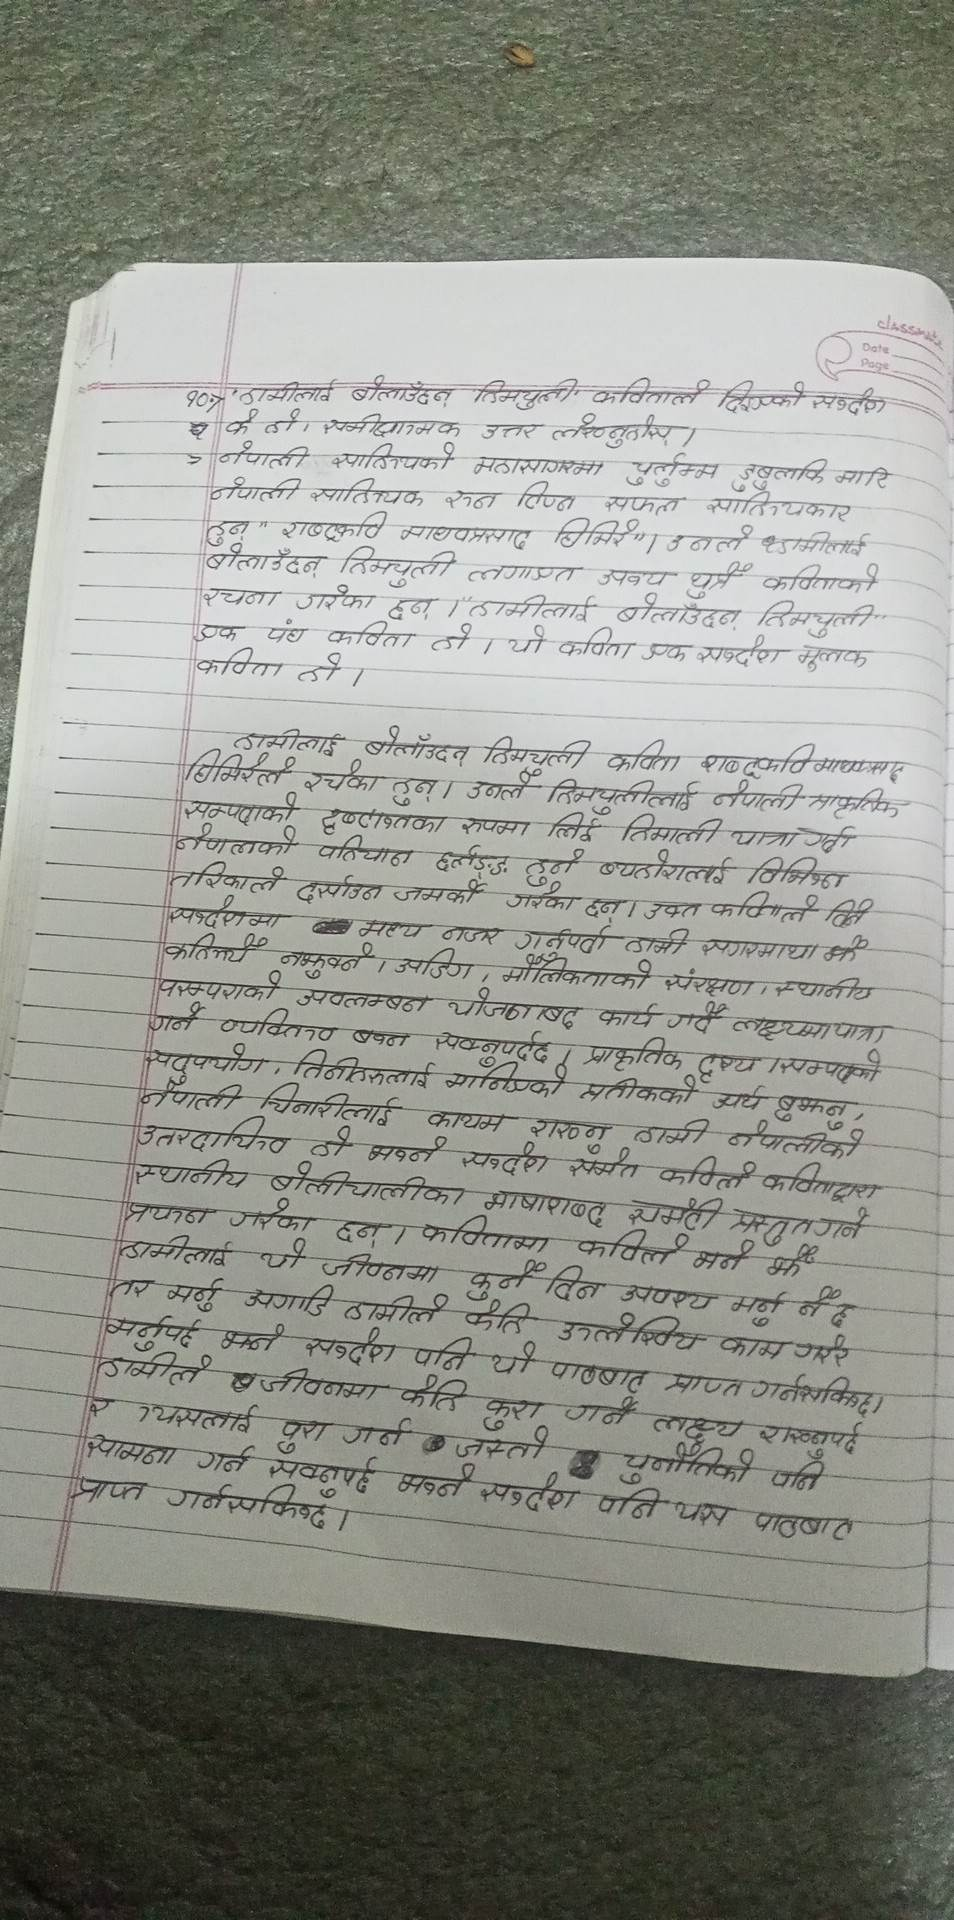text: (164, 1480, 329, 1539), (269, 1161, 464, 1209), (696, 927, 869, 969), (137, 1111, 294, 1156), (426, 1016, 556, 1069), (445, 983, 585, 1031), (289, 1043, 434, 1089), (594, 845, 734, 891), (254, 1084, 397, 1128), (618, 1441, 753, 1488), (560, 1313, 704, 1356), (418, 1213, 554, 1259), (752, 1367, 877, 1416), (702, 487, 857, 527), (729, 1008, 892, 1044), (118, 1229, 236, 1280), (545, 776, 696, 816), (480, 1464, 584, 1520), (501, 955, 654, 992), (724, 1120, 862, 1161), (754, 596, 881, 640), (269, 1451, 382, 1500), (614, 591, 741, 633), (761, 1160, 884, 1202), (438, 1060, 569, 1101), (484, 1185, 610, 1227), (770, 1043, 884, 1089), (142, 1040, 266, 1081), (296, 983, 436, 1020), (550, 411, 680, 451), (761, 1416, 872, 1461), (321, 407, 465, 441), (574, 1073, 697, 1113), (329, 1247, 445, 1289), (361, 725, 473, 769), (577, 1227, 688, 1271), (258, 1364, 380, 1404), (333, 547, 458, 587), (167, 857, 289, 896), (137, 1400, 260, 1439), (746, 1505, 854, 1549), (300, 1322, 404, 1368), (217, 1005, 337, 1044), (336, 1289, 454, 1329), (582, 1033, 685, 1078), (102, 1311, 205, 1356), (484, 731, 592, 773), (394, 520, 533, 552), (700, 740, 816, 778), (329, 440, 460, 473), (762, 560, 876, 598), (184, 752, 294, 791), (176, 824, 298, 860), (467, 591, 596, 624), (230, 722, 347, 759), (158, 969, 282, 1003), (656, 1153, 758, 1195), (705, 888, 821, 924), (165, 898, 284, 933), (133, 1160, 252, 1195), (470, 451, 614, 480), (130, 1079, 244, 1116), (452, 1425, 552, 1467), (513, 921, 620, 960), (314, 831, 416, 872), (321, 803, 446, 836), (205, 545, 325, 579), (626, 1191, 727, 1232), (242, 1275, 333, 1320), (590, 376, 714, 409), (182, 791, 298, 827), (276, 507, 393, 541), (81, 1429, 184, 1468), (545, 1357, 650, 1395), (274, 940, 376, 980), (614, 1280, 720, 1316), (523, 1114, 618, 1155), (661, 1363, 748, 1407), (748, 855, 852, 891), (776, 972, 881, 1009), (620, 813, 726, 849), (394, 1460, 478, 1505), (400, 1371, 473, 1423), (104, 1353, 212, 1387), (653, 1407, 749, 1445), (393, 940, 476, 984), (193, 645, 287, 684), (709, 779, 808, 816), (312, 478, 426, 509), (727, 457, 829, 492), (160, 936, 269, 969), (732, 1205, 818, 1247), (546, 512, 634, 552), (228, 1195, 316, 1236), (465, 1258, 544, 1303), (812, 749, 905, 787), (344, 377, 458, 408), (291, 873, 389, 909), (69, 1471, 153, 1511), (474, 380, 580, 411), (326, 617, 420, 653), (698, 631, 786, 669), (457, 1149, 554, 1183), (561, 1392, 645, 1431), (206, 471, 305, 504), (365, 1131, 453, 1168), (459, 1299, 533, 1343), (606, 737, 686, 778), (772, 1092, 854, 1131), (114, 1199, 214, 1231), (432, 842, 516, 880), (420, 1100, 506, 1136), (670, 1491, 740, 1536), (294, 580, 380, 616), (218, 440, 312, 471), (666, 523, 757, 556), (546, 1261, 610, 1308), (413, 1333, 478, 1379), (467, 560, 580, 585), (781, 525, 873, 557), (789, 1329, 861, 1369), (721, 380, 809, 413), (622, 459, 721, 489), (626, 1116, 713, 1149), (794, 640, 874, 676), (518, 847, 589, 888), (813, 785, 896, 819), (540, 809, 612, 849), (557, 628, 637, 664), (238, 377, 337, 405), (393, 880, 492, 909), (665, 969, 756, 999), (618, 924, 693, 961), (686, 557, 749, 600), (483, 1389, 546, 1431), (596, 1487, 670, 1523), (218, 1320, 294, 1356), (462, 768, 534, 804), (562, 1155, 645, 1187), (813, 1204, 881, 1243), (814, 387, 894, 420), (201, 580, 280, 613), (497, 887, 587, 916), (727, 1283, 785, 1329), (274, 1411, 332, 1456), (354, 911, 430, 945), (716, 1331, 792, 1365), (340, 1417, 409, 1455), (694, 1047, 762, 1085), (227, 407, 304, 440), (725, 819, 800, 852), (298, 768, 381, 797), (517, 478, 580, 516), (667, 1000, 729, 1040), (332, 1212, 392, 1251), (160, 1280, 227, 1315), (601, 491, 685, 519), (824, 891, 876, 937), (456, 813, 534, 842), (692, 1239, 754, 1276), (594, 564, 674, 593), (193, 1442, 258, 1477), (765, 1460, 828, 1495), (257, 1232, 312, 1271), (436, 920, 509, 948), (146, 1004, 208, 1037), (385, 771, 437, 811), (351, 1022, 421, 1052), (761, 1245, 816, 1282), (484, 1347, 543, 1381), (596, 1000, 661, 1031), (705, 1084, 765, 1117), (808, 816, 857, 856), (298, 653, 347, 689), (305, 1127, 358, 1160), (830, 463, 889, 492), (442, 485, 505, 512), (638, 898, 700, 924), (637, 639, 696, 667), (186, 616, 246, 643), (260, 617, 310, 649), (478, 416, 536, 443), (794, 1281, 832, 1321), (585, 889, 629, 923), (506, 623, 547, 659), (206, 509, 249, 544), (387, 596, 438, 624), (104, 1276, 157, 1303), (427, 629, 474, 655), (829, 1300, 862, 1331), (85, 1389, 109, 1419)
